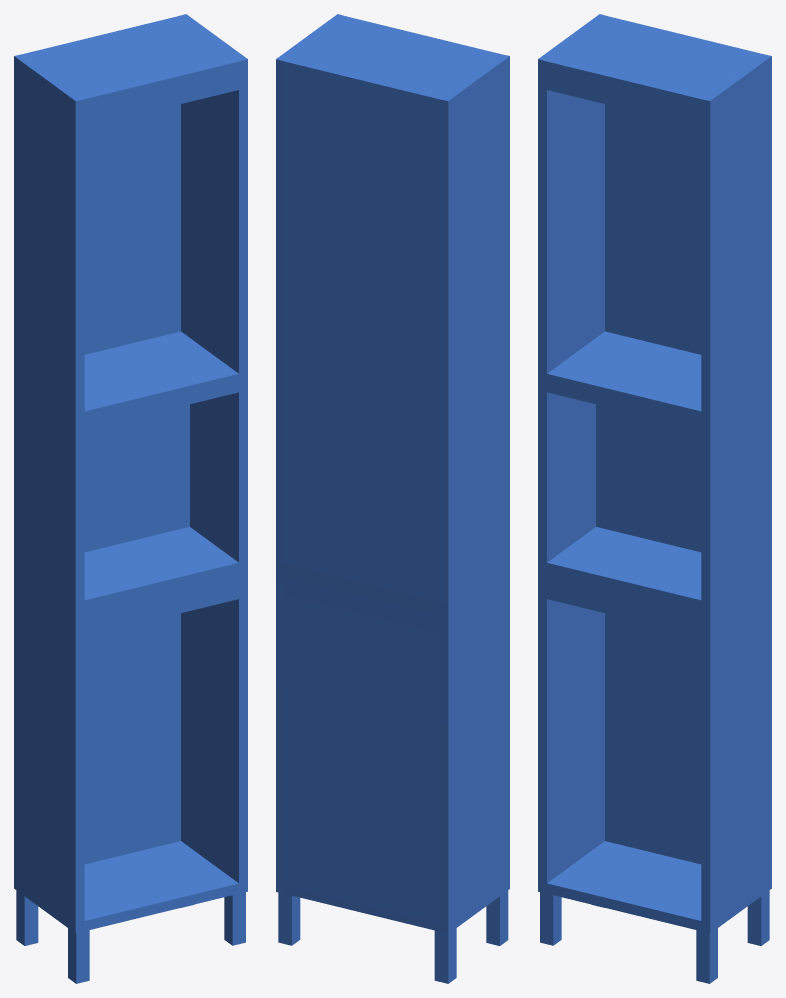
Rendered from Armario02.fbx.
3 views of the same model, side by side, from view 1: azimuth 30°, elevation 25°; view 2: azimuth 150°, elevation 25°; view 3: azimuth 330°, elevation 25° (orthographic).
Visible parts, largest first — view 1: Armario02; view 2: Armario02; view 3: Armario02.
Boxes of the visible parts, <box> form: Armario02: <box>14,14,247,983</box>; Armario02: <box>276,14,509,983</box>; Armario02: <box>538,14,771,983</box>.
Bounding box in the file's own units: 27.99 × 137 × 17.38.
